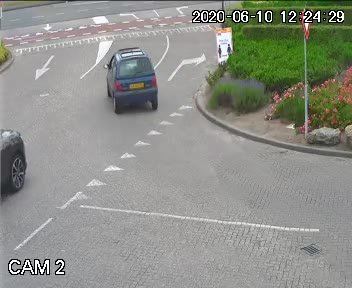car: (93, 41, 165, 117)
